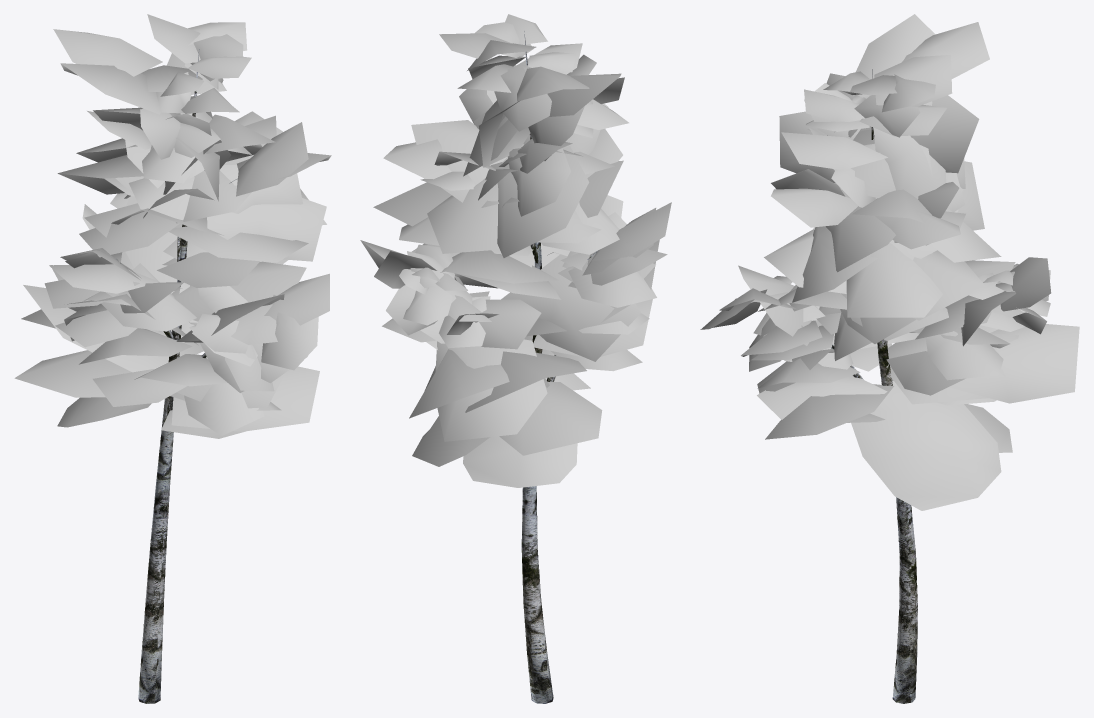
Rendered from myBirch_v1.fbx.
3 renders of one model, left to right at view 1: azimuth 30°, elevation 25°; view 2: azimuth 150°, elevation 25°; view 3: azimuth 270°, elevation 25°, orthographic.
Visible parts, largest first — view 1: myBirch; view 2: myBirch; view 3: myBirch.
Part boxes in pixels (<box>): myBirch: <box>14,14,331,703</box>; myBirch: <box>360,14,671,703</box>; myBirch: <box>700,14,1079,703</box>.
Size of the model in its own units: 11.83 by 28 by 14.71.
